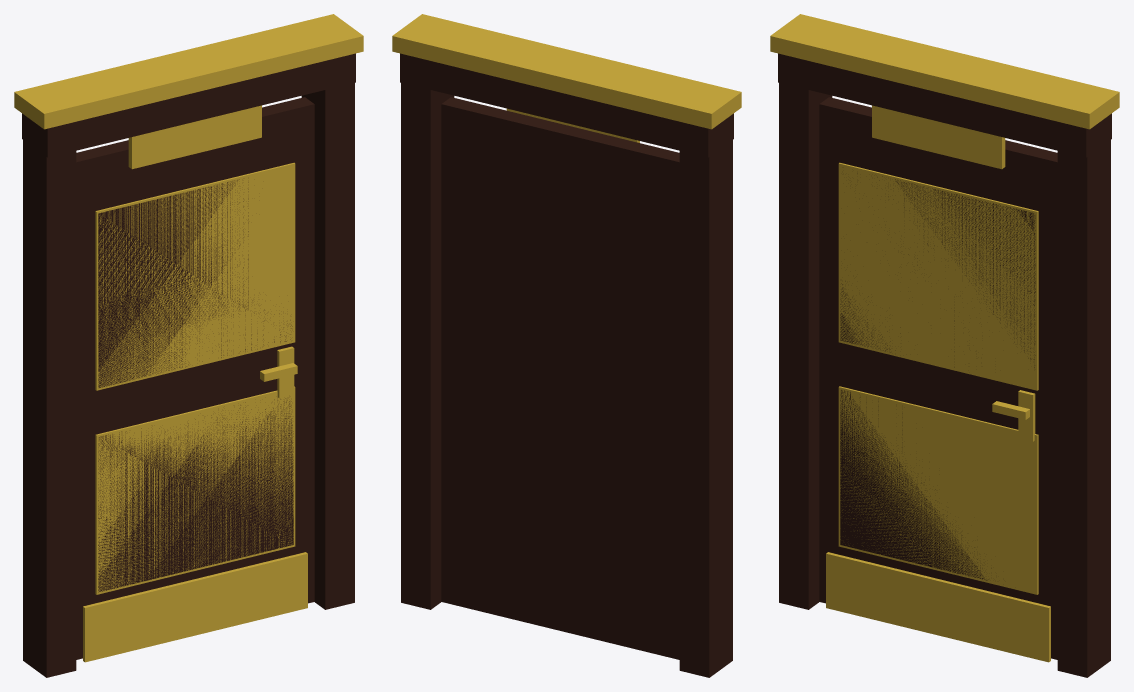
File: HotelLobby_Door102.obj
3 views of the same model, side by side, from view 1: azimuth 30°, elevation 25°; view 2: azimuth 150°, elevation 25°; view 3: azimuth 330°, elevation 25° (orthographic).
Size of the model in its own units: 1.72 by 2.92 by 0.28.
